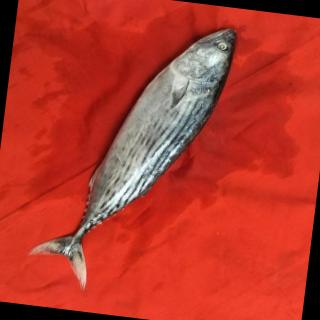Ikan: (60, 9, 250, 290)
